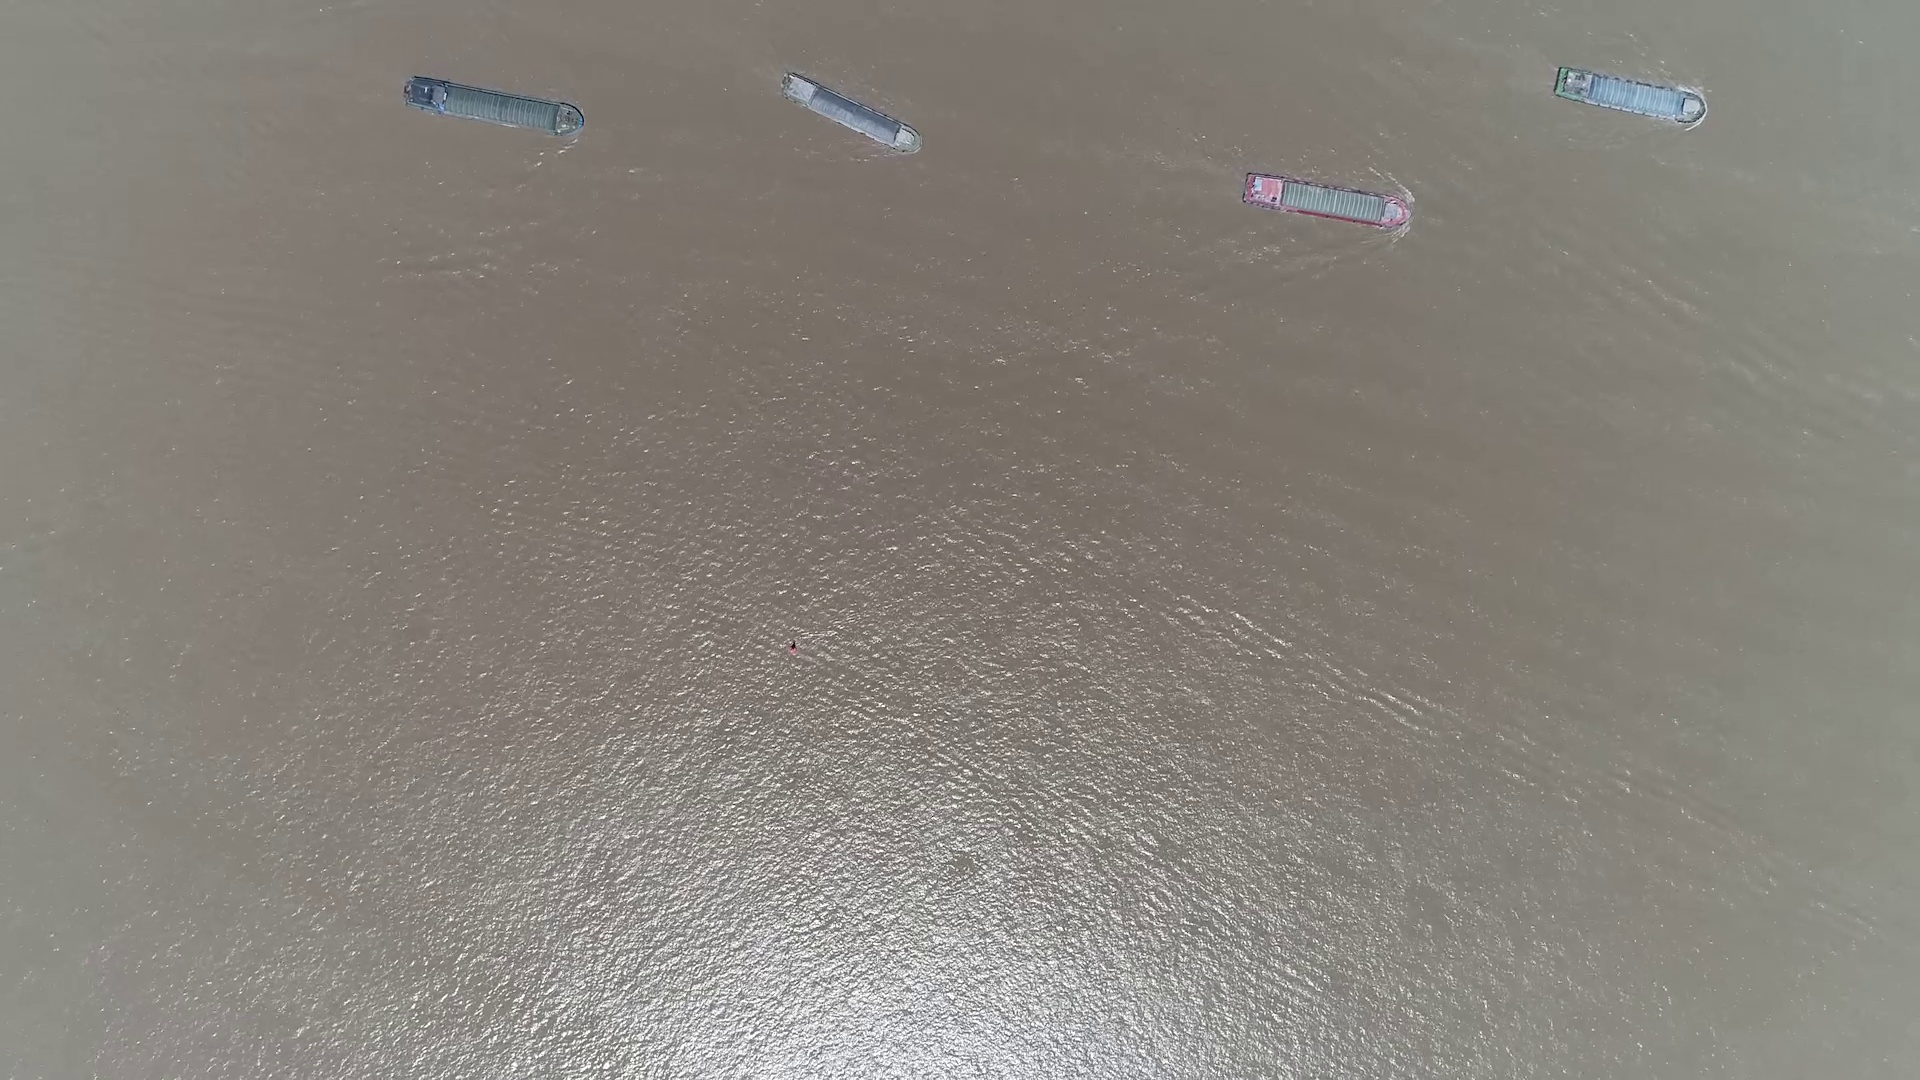ship: (404, 75, 585, 138), (781, 74, 918, 154), (1240, 171, 1411, 229), (1553, 70, 1705, 125)
